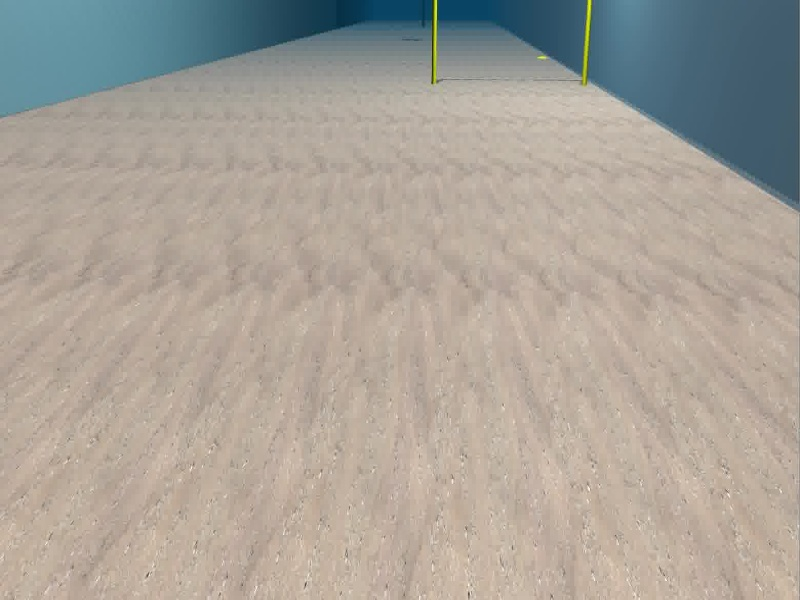gate: (430, 1, 591, 81)
